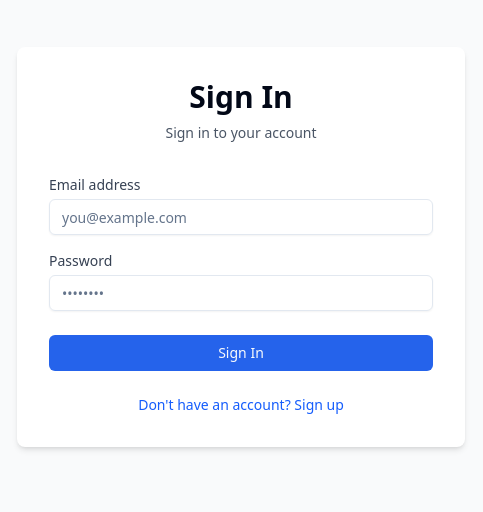
it: LoginForm › displays error message on sign up failure
This screenshot has width=483, height=512.
# Switch to sign up
Click the button "Don't have an account? Sign up".
click(241, 405)  # box [138,395,344,415]
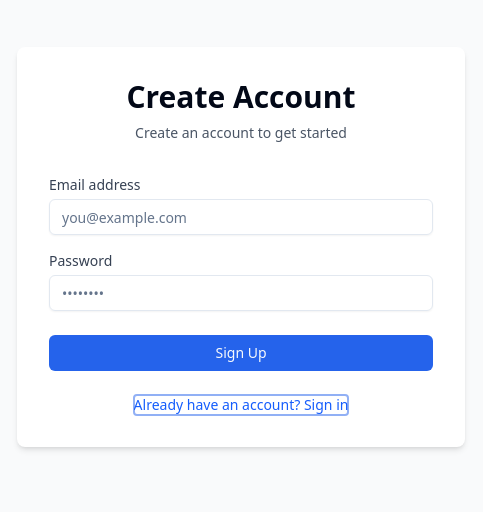
Type "existing@example.com" into the field labelled "Email address".
click(241, 217); type("existing@example.com")  # box [49,199,433,235]
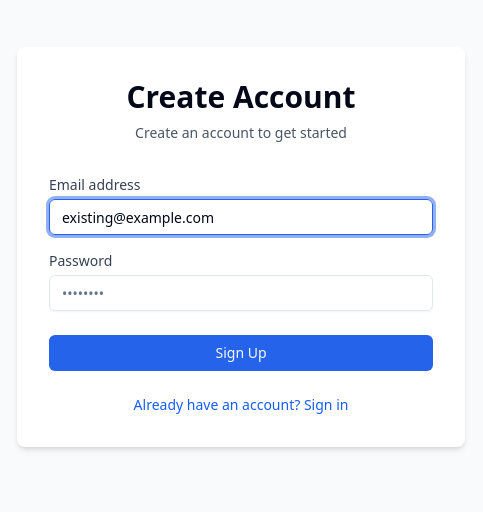
Type "password123" into the password field labelled "Password".
click(241, 293); type("password123")  # box [49,275,433,311]
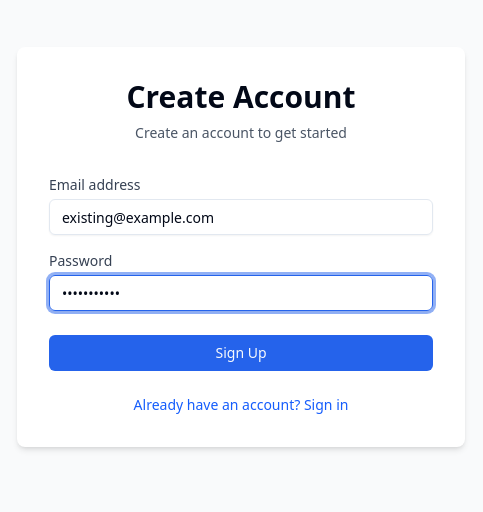
Click the button "Sign Up".
click(241, 353)  # box [49,335,433,371]
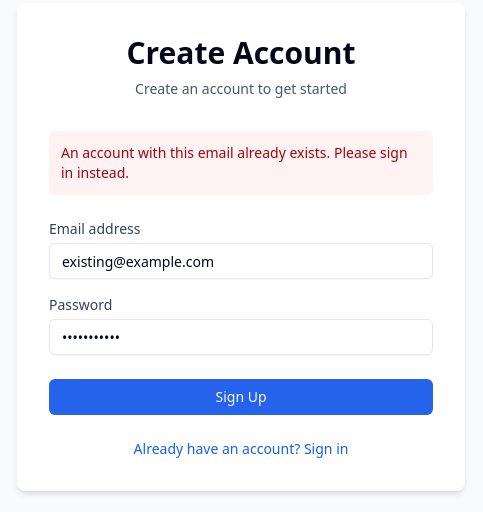
Result: the text "An account with this email already exists. Please sign in instead." is shown at [49,131,433,195]
